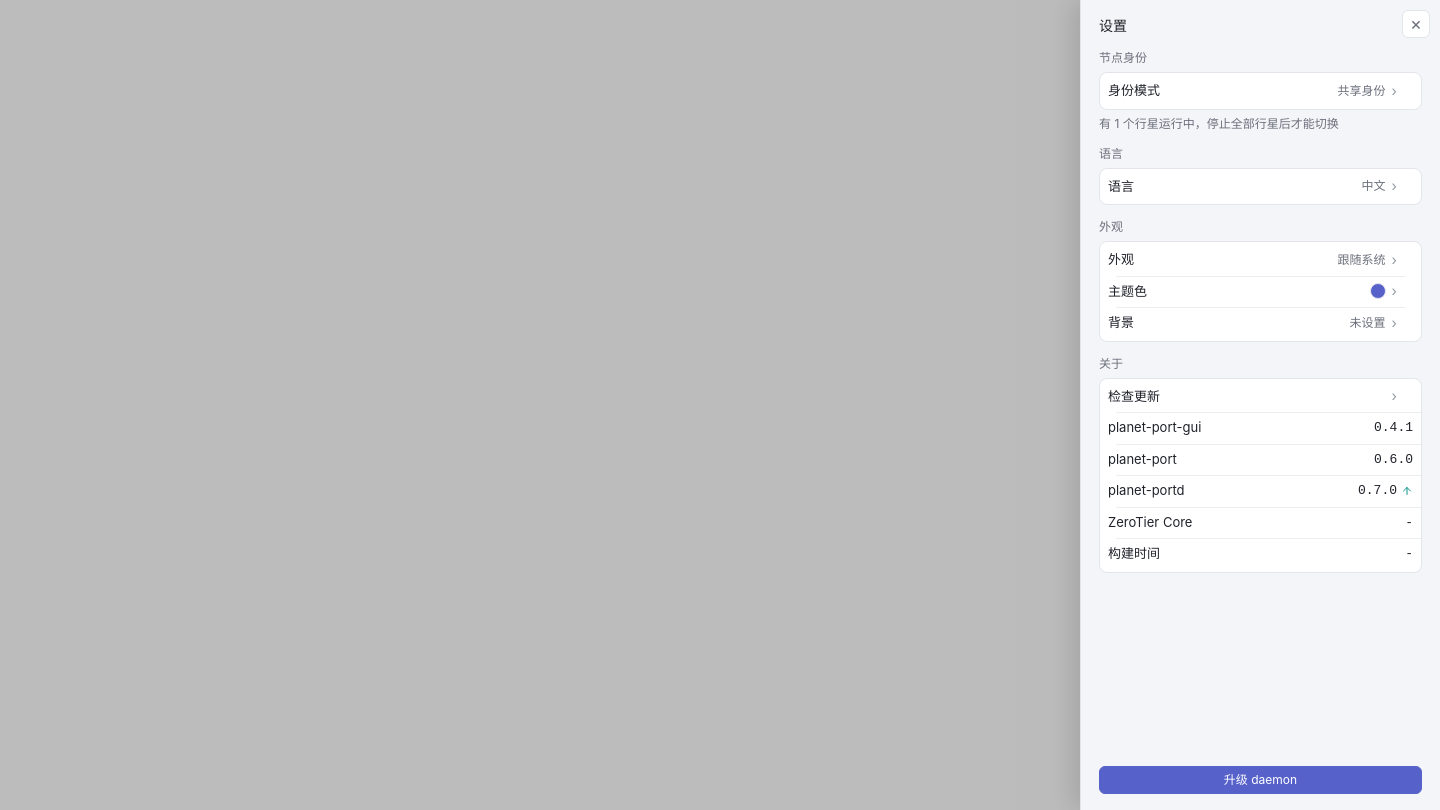
SettingsDrawer › 点安装按钮打开重装确认弹窗(默认关闭,确认态含覆盖安装说明)
The image size is (1440, 810).
Step 1. Click the button with test id "settings-install-daemon" → (1260, 780), box [1099,766,1422,794]
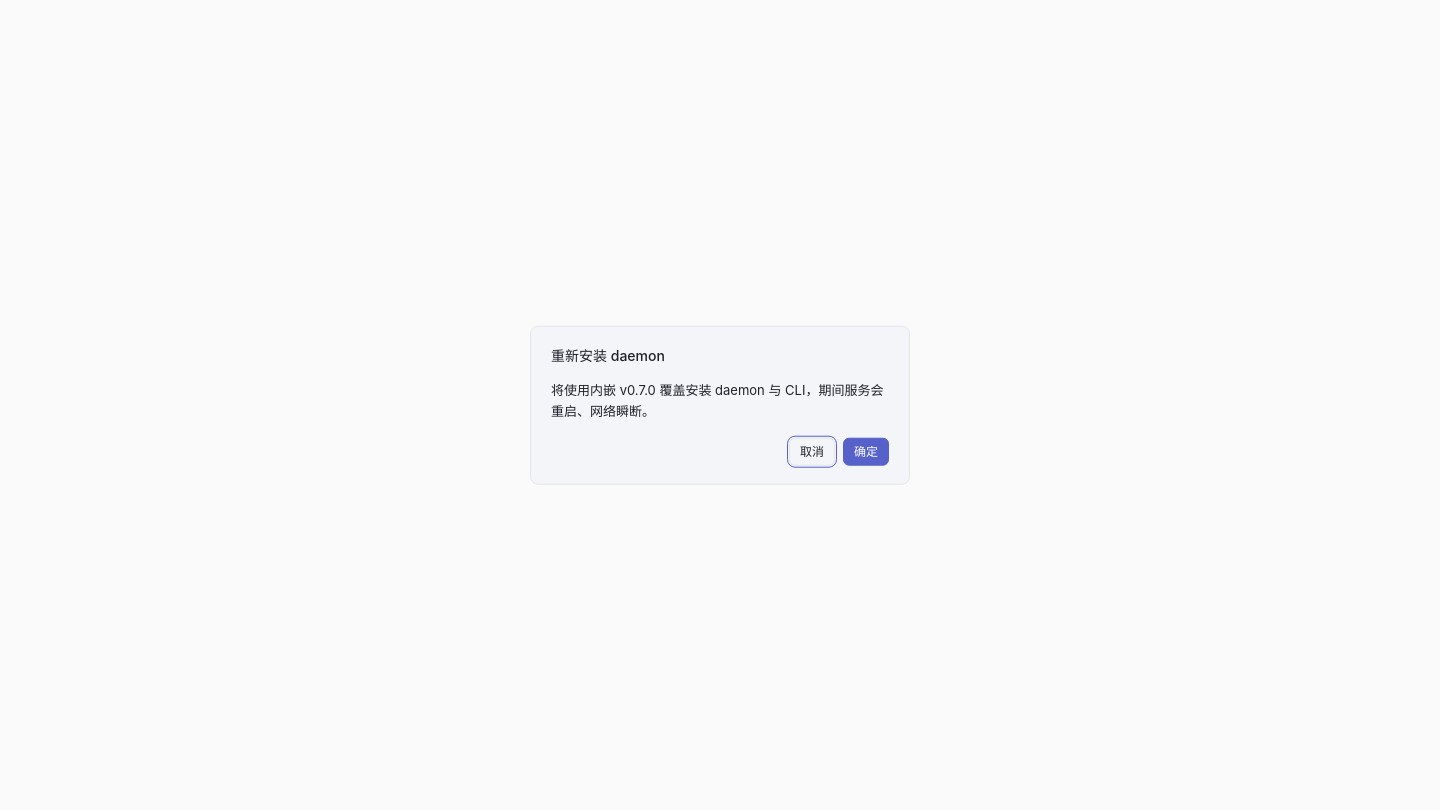
Now the dialog with test id "reinstall-dialog" is shown, box [530,326,910,484]
Now the text "将使用内嵌 v0.7.0 覆盖安装 daemon 与 CLI，期间服务会重启、网络瞬断。" is shown, box [551,380,889,421]
